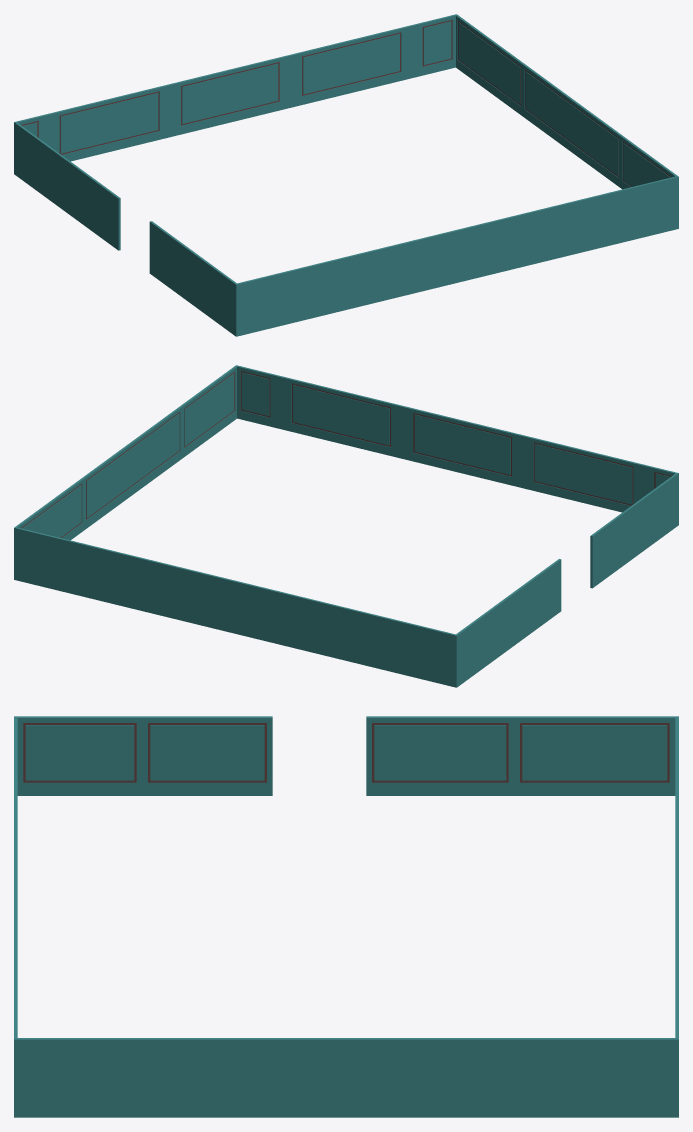
File: Apt04.fbx
3 views of the same model, one above another, from view 1: azimuth 30°, elevation 25°; view 2: azimuth 150°, elevation 25°; view 3: azimuth 270°, elevation 25° (orthographic). The views are drawn at different scales.
Parts seen in each view (by area): view 1: Apt04; view 2: Apt04; view 3: Apt04.
Boxes of the visible parts, x1,y1,x2,y2 form: Apt04: (14, 14, 678, 336); Apt04: (14, 365, 678, 687); Apt04: (14, 716, 678, 1117).
Size of the model in its own units: 915 by 103 by 796.
